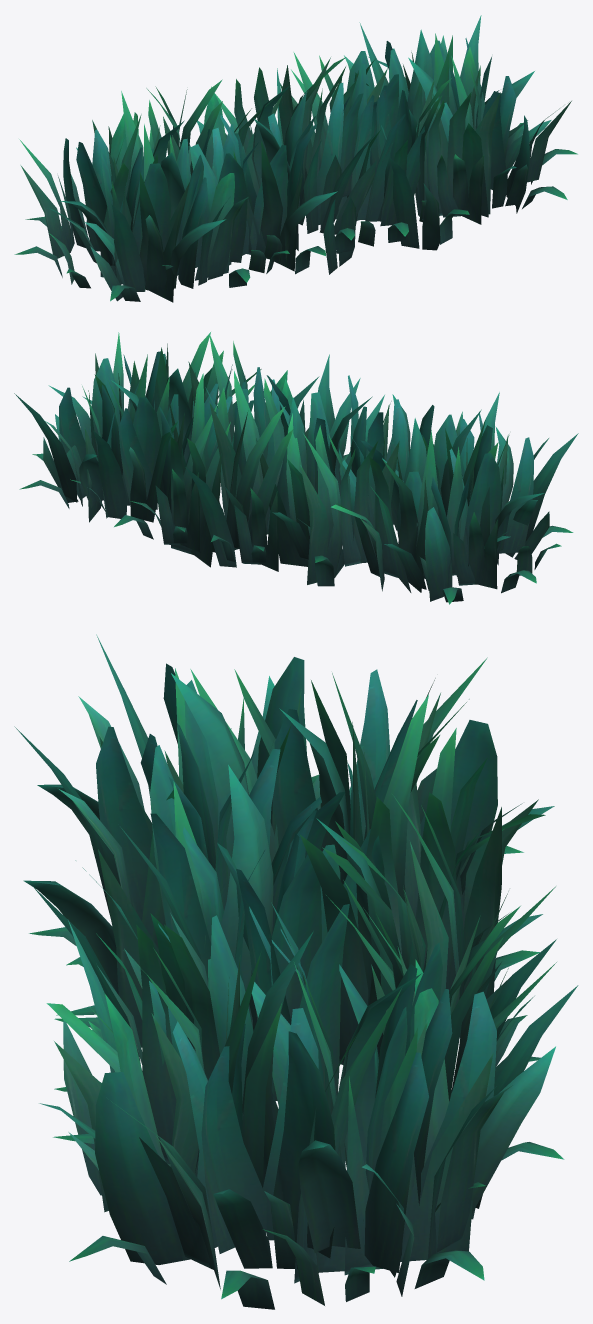
The model's file is pref_sm_4v4beachtech_WSJ_techgrass_alpha_03_lv2.fbx.
The picture shows the model from 3 angles, top to bottom: view 1: azimuth 30°, elevation 25°; view 2: azimuth 150°, elevation 25°; view 3: azimuth 270°, elevation 25°; orthographic projection. The views are drawn at different scales.
Visible parts, largest first — view 1: pref_sm_4v4beachtech_WSJ_techgrass_alpha_03_lv2; view 2: pref_sm_4v4beachtech_WSJ_techgrass_alpha_03_lv2; view 3: pref_sm_4v4beachtech_WSJ_techgrass_alpha_03_lv2.
Part boxes in pixels (x1,y1,x2,y2): pref_sm_4v4beachtech_WSJ_techgrass_alpha_03_lv2: (14, 15, 577, 302); pref_sm_4v4beachtech_WSJ_techgrass_alpha_03_lv2: (14, 332, 578, 604); pref_sm_4v4beachtech_WSJ_techgrass_alpha_03_lv2: (14, 634, 578, 1309).
Size of the model in its own units: 6.12 by 1.99 by 2.89.
